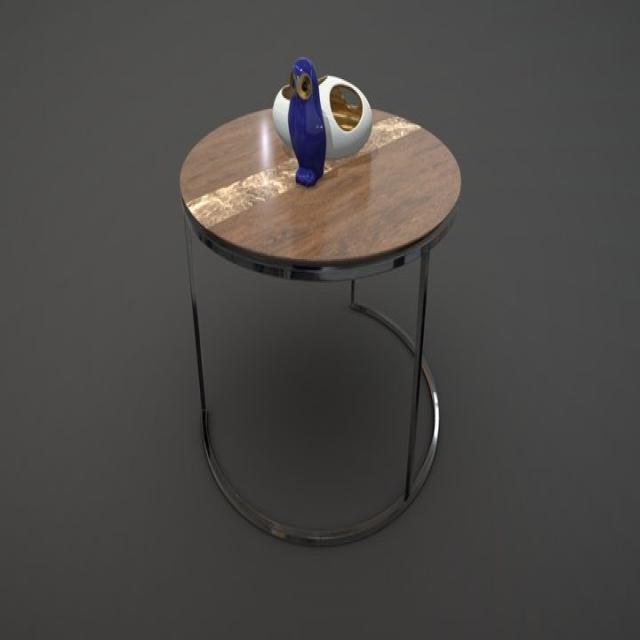table: (180, 105, 464, 550)
